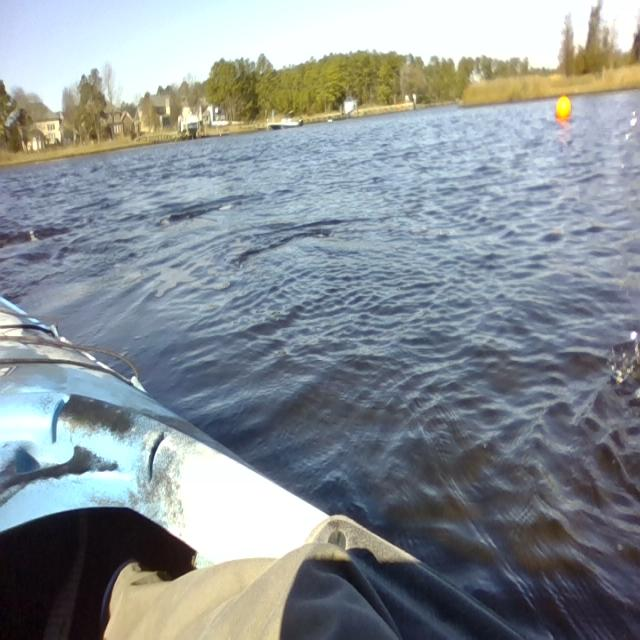Buoy: (553, 90, 574, 126)
